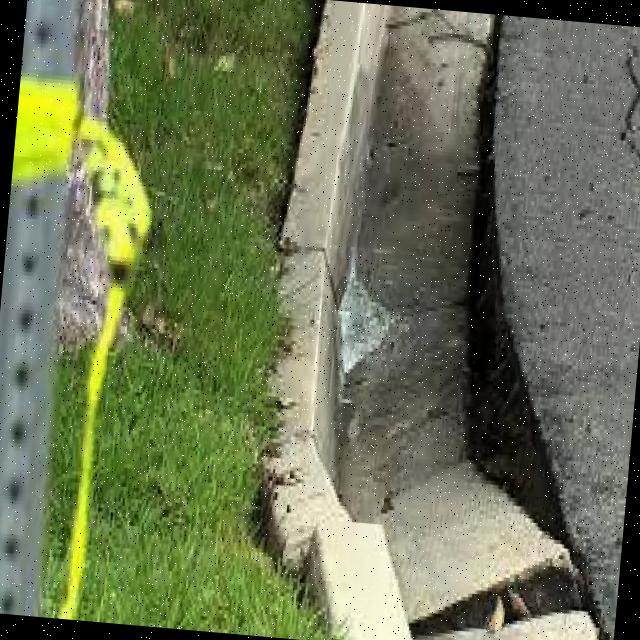curb: (252, 1, 409, 595)
